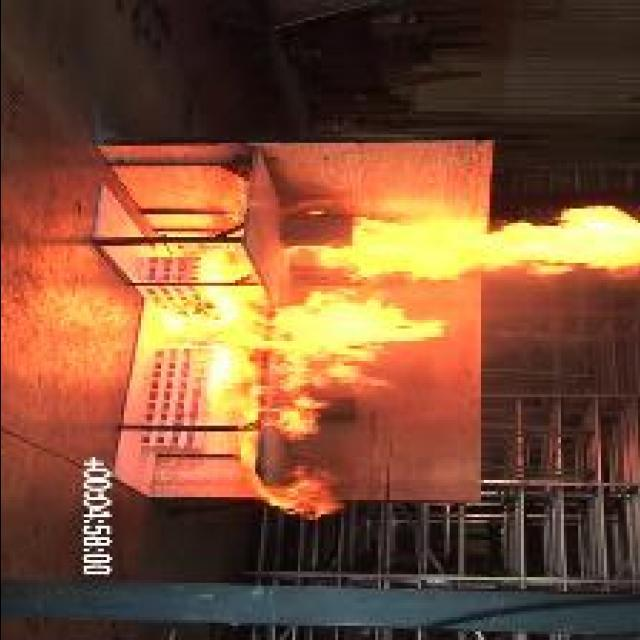Fire: (160, 248, 443, 522), (283, 206, 640, 280)
